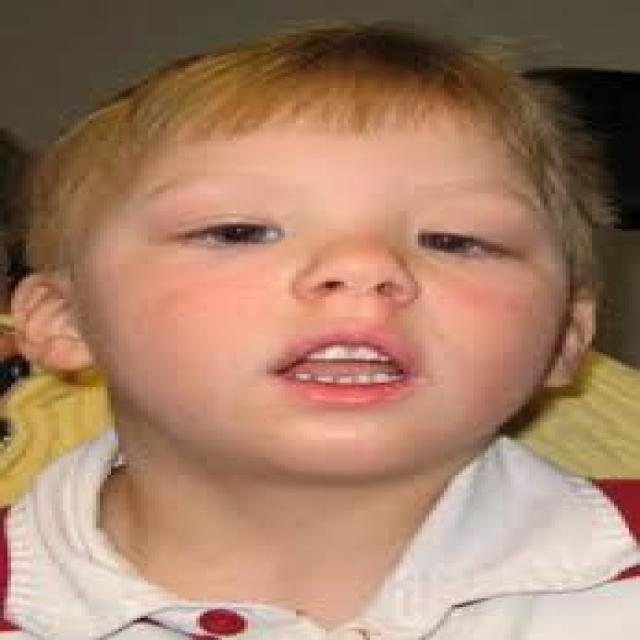normal_face: (70, 37, 570, 450)
